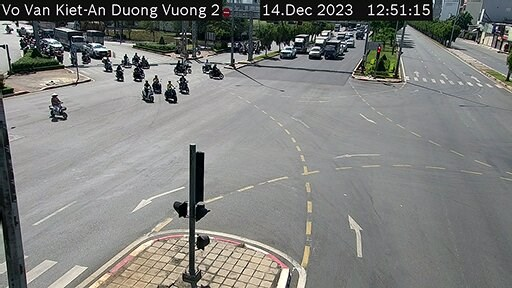motorbike: (157, 76, 178, 104), (174, 68, 190, 97), (139, 82, 154, 103), (206, 64, 222, 80), (151, 70, 159, 93)
